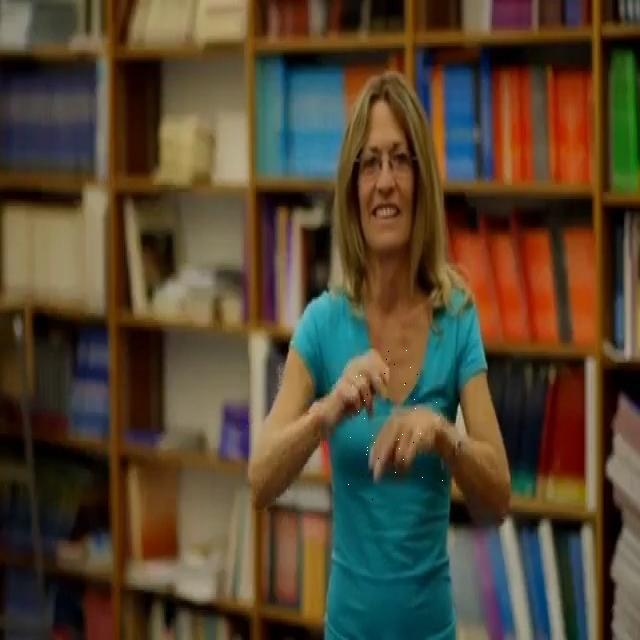salt: (336, 342, 444, 500)
